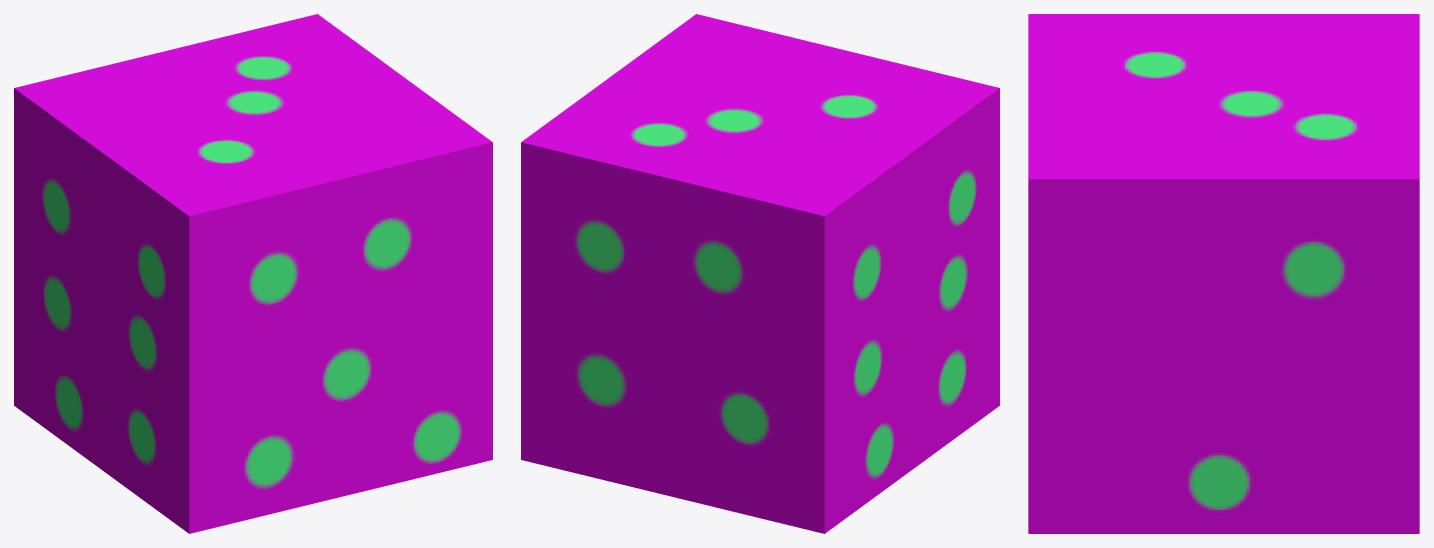
The model's file is magicalDice2.fbx.
The picture shows the model from 3 angles, left to right: view 1: azimuth 30°, elevation 25°; view 2: azimuth 150°, elevation 25°; view 3: azimuth 270°, elevation 25°; orthographic projection. The views are drawn at different scales.
Parts seen in each view (by area): view 1: pCube3; view 2: pCube3; view 3: pCube3.
Boxes of the visible parts, <box> form: pCube3: <box>14,14,492,533</box>; pCube3: <box>521,14,999,533</box>; pCube3: <box>1028,14,1419,533</box>.
Size of the model in its own units: 9.43 by 9.43 by 9.43.
1 material, 1 textured.
